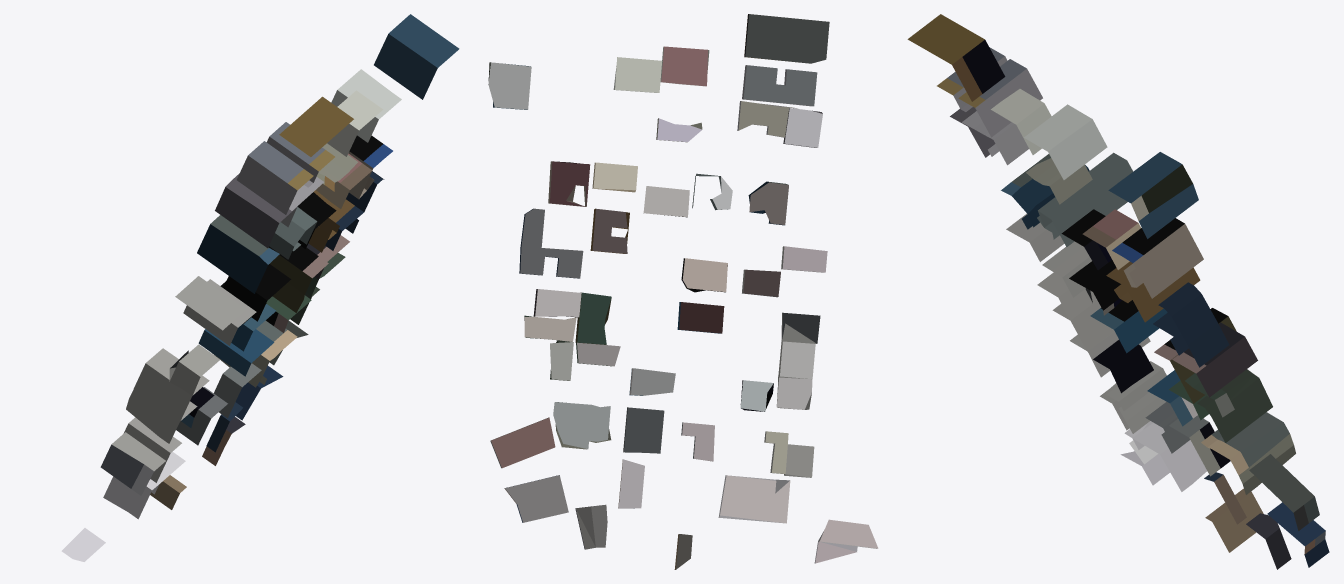
3 renders of one model, left to right at view 1: azimuth 30°, elevation 25°; view 2: azimuth 150°, elevation 25°; view 3: azimuth 270°, elevation 25°, orthographic. The views are drawn at different scales.
Size of the model in its own units: 130 by 143 by 103.
